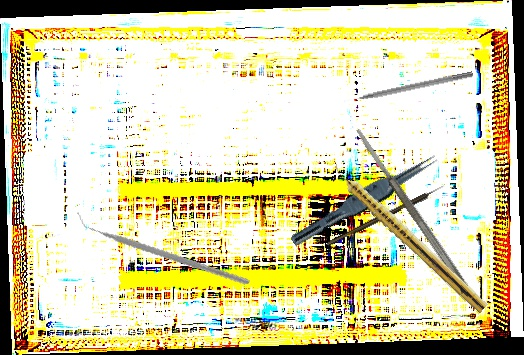Chopper: (76, 178, 251, 318)
Handpiece: (327, 159, 492, 315)
Hook Surgical: (325, 184, 447, 247), (342, 69, 474, 105)
Spatula Surgical: (353, 126, 470, 291)
Tissue Forceps: (289, 145, 441, 256)
